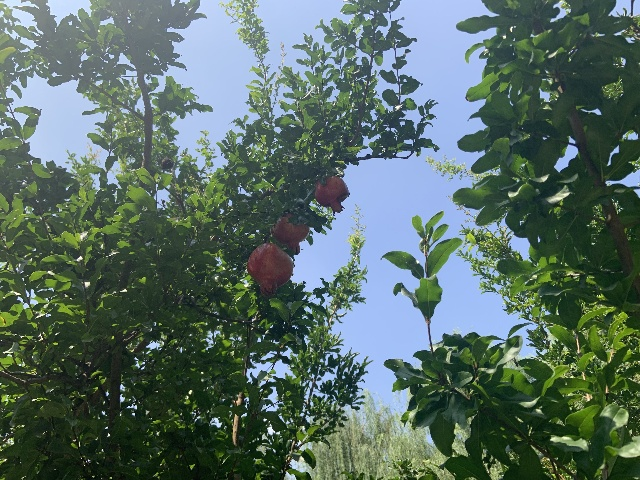ripe: (246, 243, 293, 296), (272, 213, 309, 254), (314, 175, 348, 213)
